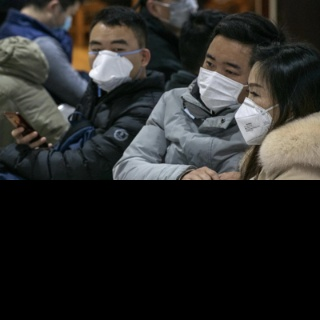with_mask: (195, 52, 244, 112), (232, 80, 273, 148), (88, 38, 135, 92), (160, 0, 198, 34), (49, 8, 76, 41)
